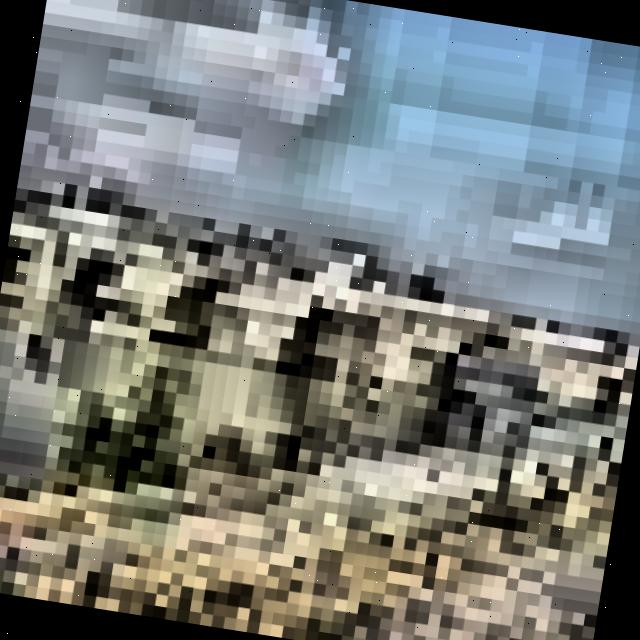stone bridge: (0, 226, 610, 427)
